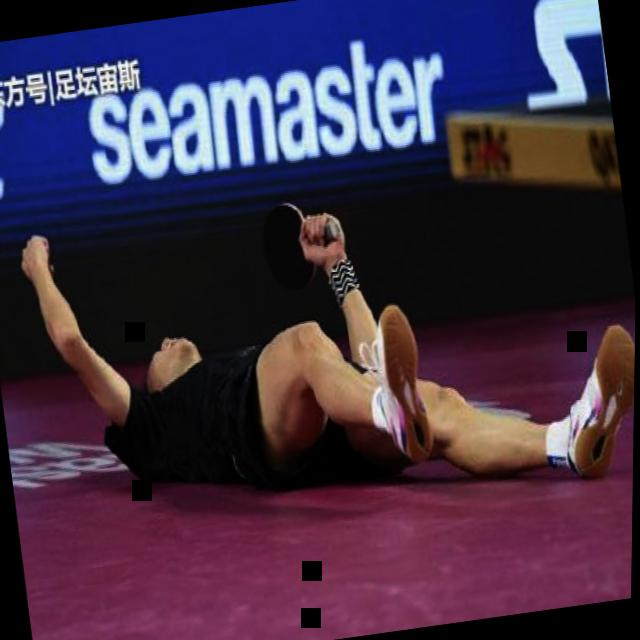Fall-Detected: (0, 137, 638, 554)
